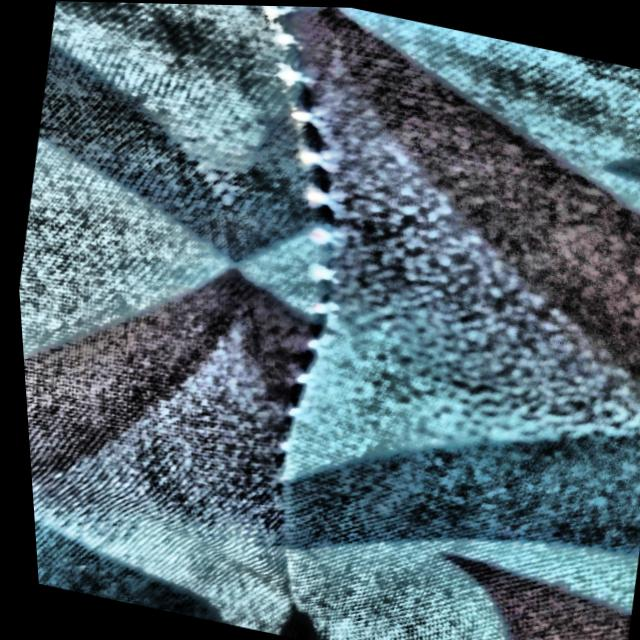Stitch: (190, 22, 408, 481)
